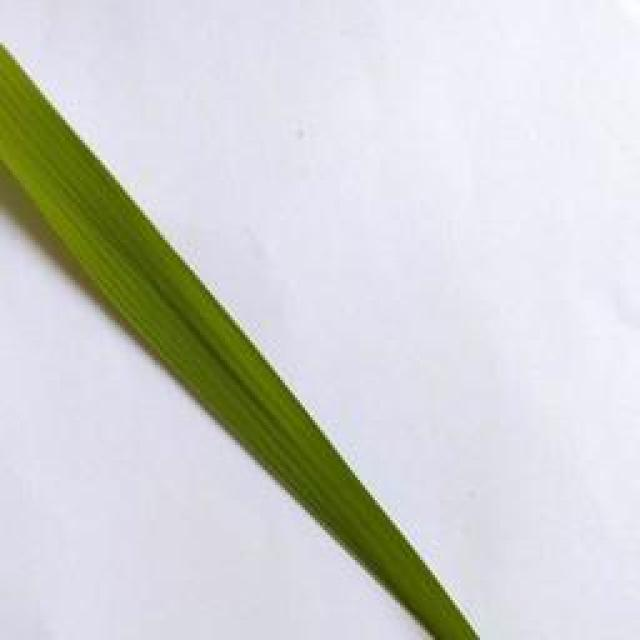Healthy-Plant: (0, 37, 485, 640)
